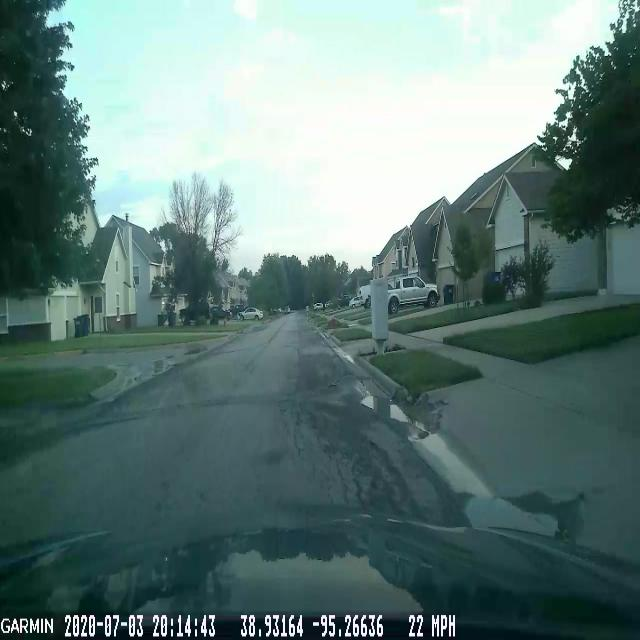Pothole: (359, 389, 447, 440)
